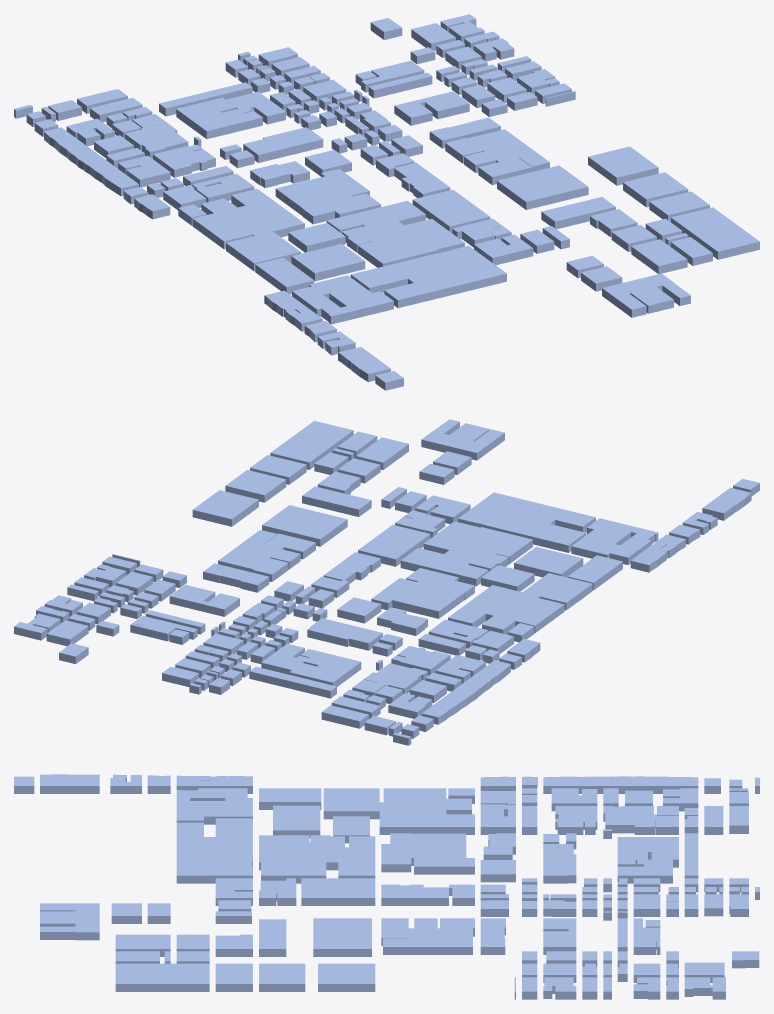
File: buildings_divided.glb
3 views of the same model, one above another, from view 1: azimuth 30°, elevation 25°; view 2: azimuth 150°, elevation 25°; view 3: azimuth 270°, elevation 25° (orthographic). The views are drawn at different scales.
Visible parts, largest first — view 1: world; view 2: world; view 3: world.
Boxes of the visible parts, bbox=[...] form: world: bbox=[14, 14, 759, 390]; world: bbox=[14, 419, 759, 745]; world: bbox=[14, 774, 759, 999].
Size of the model in its own units: 174 by 3 by 253.
